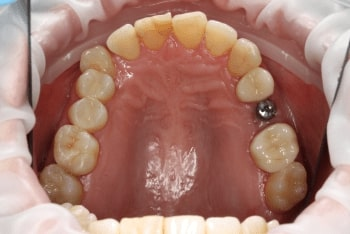UL1BC_healthy: (235, 68, 274, 104)
UL1M_healthy: (249, 125, 297, 174)
UL2M_healthy: (265, 162, 309, 213)
ULCI_healthy: (173, 9, 203, 50)
ULC_healthy: (227, 36, 261, 76)
ULLI_healthy: (204, 20, 236, 56)
UR1BC_healthy: (75, 71, 118, 102)
UR1M_decay: (55, 124, 101, 176)
UR2BC_healthy: (67, 97, 108, 129)
UR2M_healthy: (40, 162, 85, 204)
URCI_decay: (139, 9, 173, 52)
URC_decay: (80, 45, 116, 77)
URLI_healthy: (107, 24, 142, 62)
